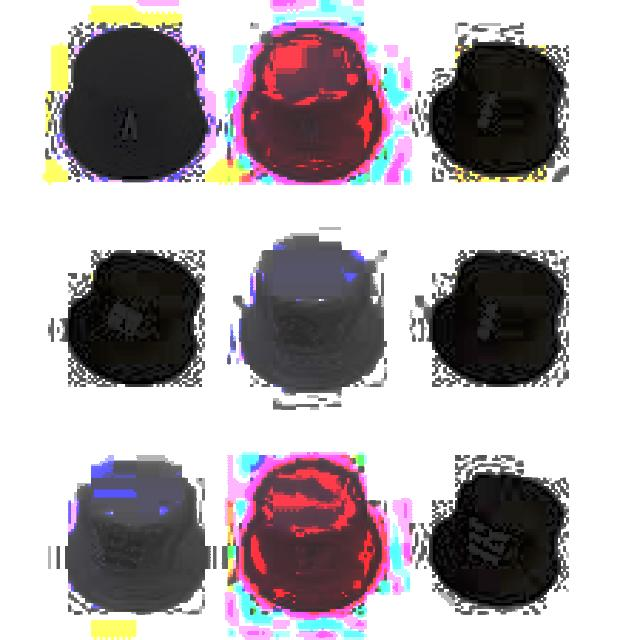TOPI: (236, 441, 387, 614), (46, 458, 210, 606), (228, 26, 381, 179), (236, 242, 390, 390), (57, 239, 210, 387), (59, 22, 208, 170), (418, 239, 566, 387), (421, 28, 566, 174), (421, 464, 566, 600)
